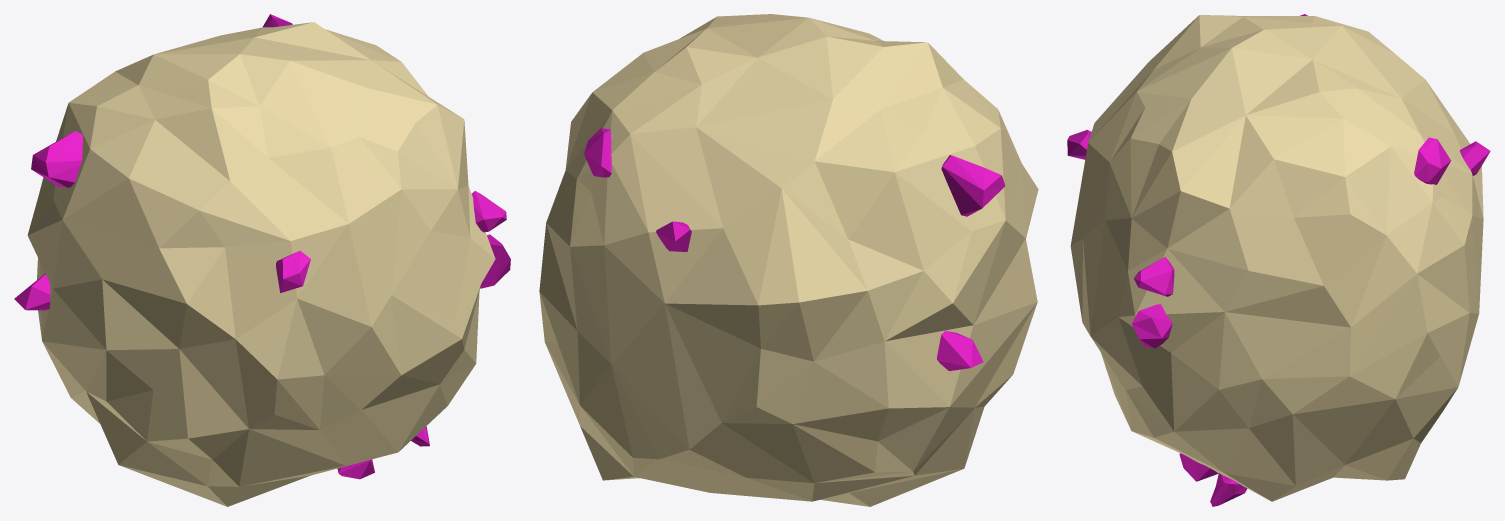
The model's file is CrystalOre (51).fbx.
3 views of the same model, side by side, from view 1: azimuth 30°, elevation 25°; view 2: azimuth 150°, elevation 25°; view 3: azimuth 270°, elevation 25° (orthographic). The views are drawn at different scales.
Visible parts, largest first — view 1: Asteroid271; view 2: Asteroid271; view 3: Asteroid271.
Part boxes in pixels (x1=…): Asteroid271: x1=14, y1=14, x2=510, y2=506; Asteroid271: x1=539, y1=14, x2=1038, y2=506; Asteroid271: x1=1067, y1=14, x2=1490, y2=506.
Bounding box in the file's own units: 553 × 580 × 530.
